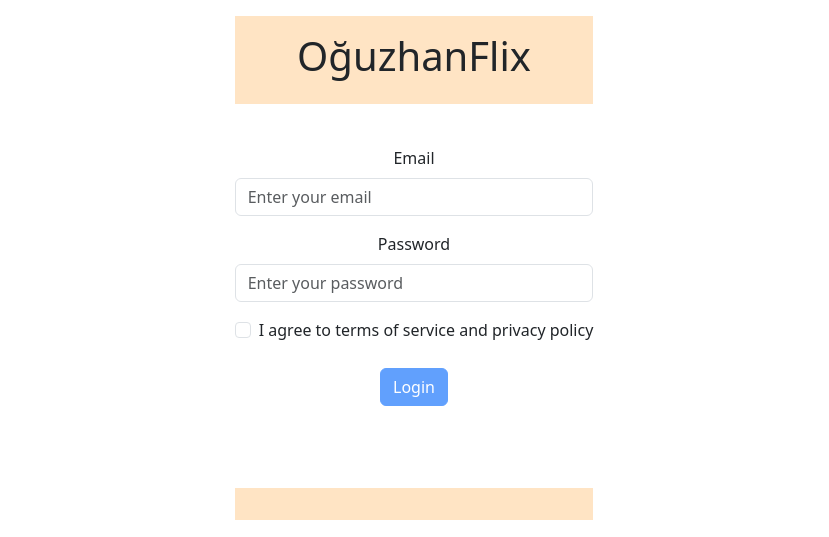
Test case: Login Form Tests › b) Hatalı durumlarda beklenen hata mesajları görünüyor ve buton disabled kalıyor › Email yanlis
The image size is (829, 537).
In the field named "email": point(415, 197) [235,178,594,216], type "invalid-email"
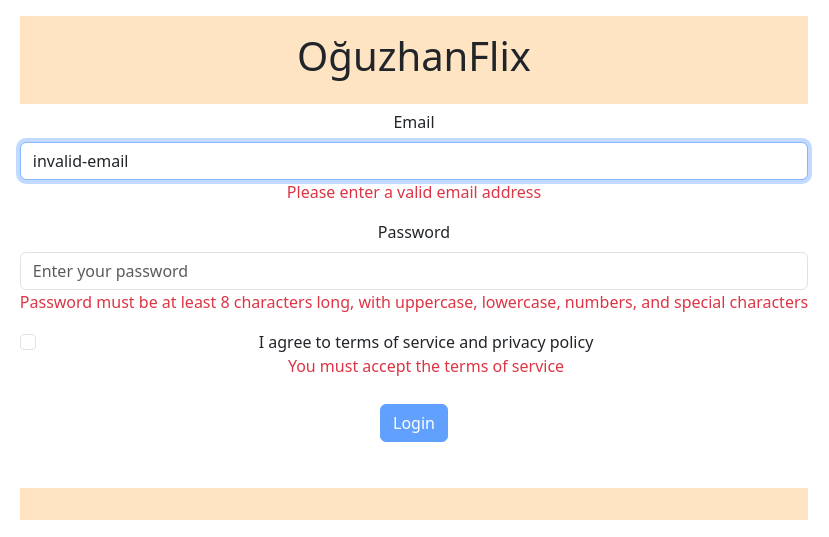
Expected: the button with test id "login-button" is disabled, [380,404,448,442]
Expected: the text "Please enter a valid email address" is shown, [287,181,541,203]
